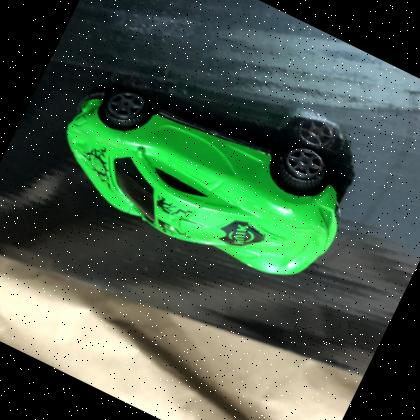Car: (65, 86, 340, 274)
